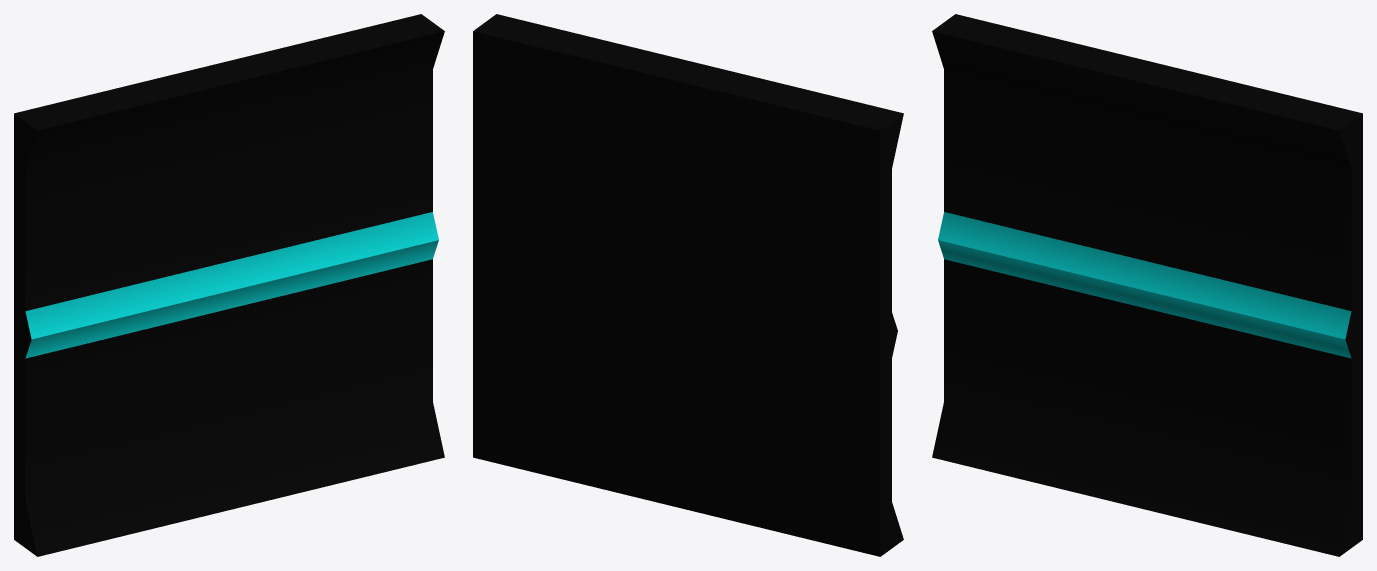
The model's file is wall.fbx.
3 views of the same model, side by side, from view 1: azimuth 30°, elevation 25°; view 2: azimuth 150°, elevation 25°; view 3: azimuth 330°, elevation 25° (orthographic).
Visible parts, largest first — view 1: pCube1; view 2: pCube1; view 3: pCube1.
Part boxes in pixels (x1,y1,x2,y2): pCube1: [14, 14, 444, 556]; pCube1: [473, 14, 903, 556]; pCube1: [932, 14, 1362, 556].
Size of the model in its own units: 500 by 500 by 50.
